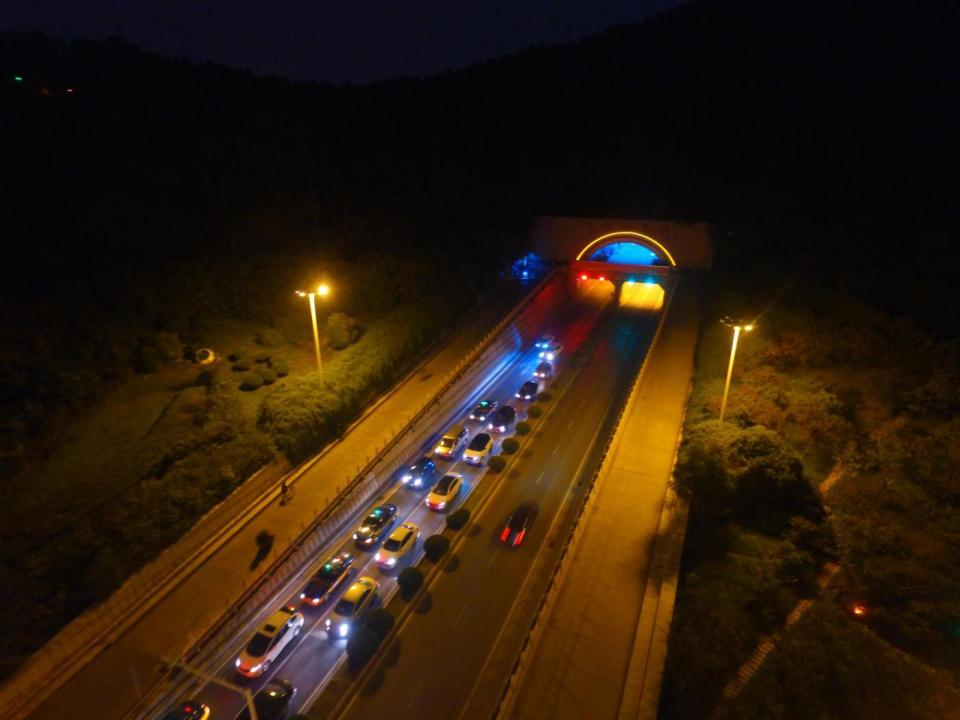car: (234, 607, 302, 678), (324, 581, 376, 640), (302, 553, 354, 609), (239, 677, 298, 720), (352, 504, 402, 550), (374, 523, 419, 571), (499, 502, 538, 546), (422, 474, 464, 511), (402, 459, 437, 490), (462, 434, 494, 466), (489, 405, 518, 434), (471, 398, 497, 424), (516, 380, 538, 402), (540, 340, 564, 360), (536, 332, 554, 349), (534, 364, 551, 379)
van: (437, 424, 470, 459)
